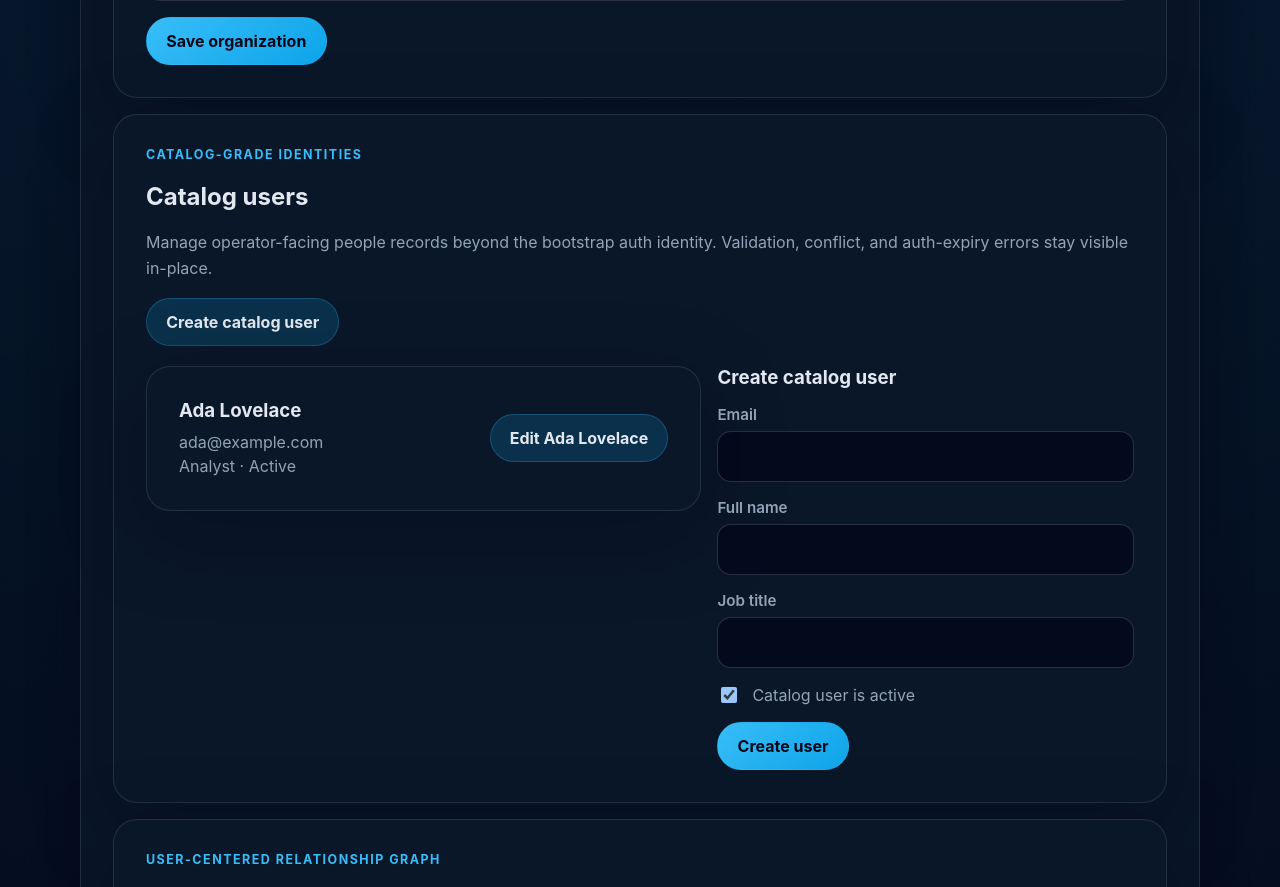
Test: catalog workspace › edits a catalog user through the live workspace form
(page scrolled)
Click the button "Edit Ada Lovelace" at (579, 438), box x1=490 y1=414 x2=668 y2=462
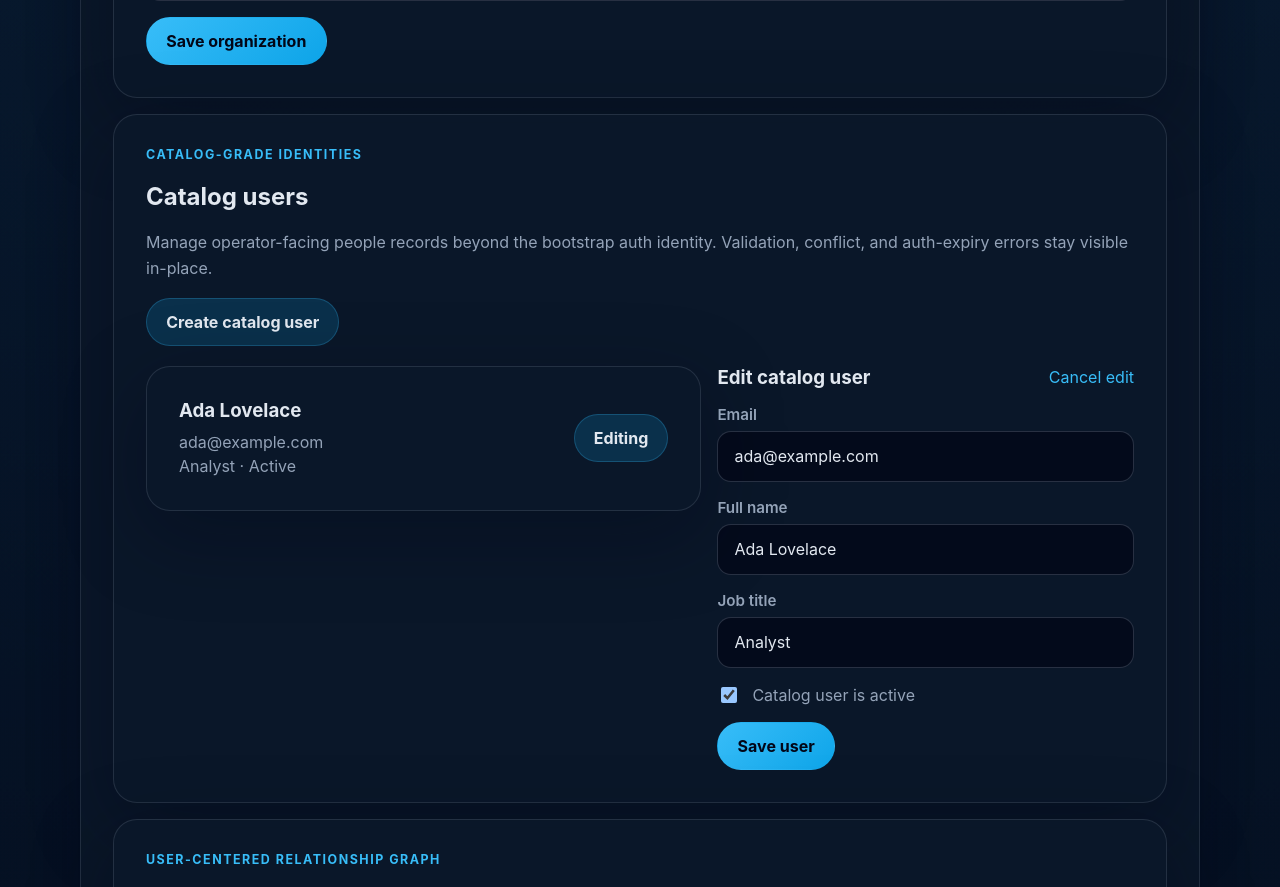
Replace the text in the field labelled "Full name" with "Ada Byron" at (926, 549), box x1=717 y1=524 x2=1134 y2=575
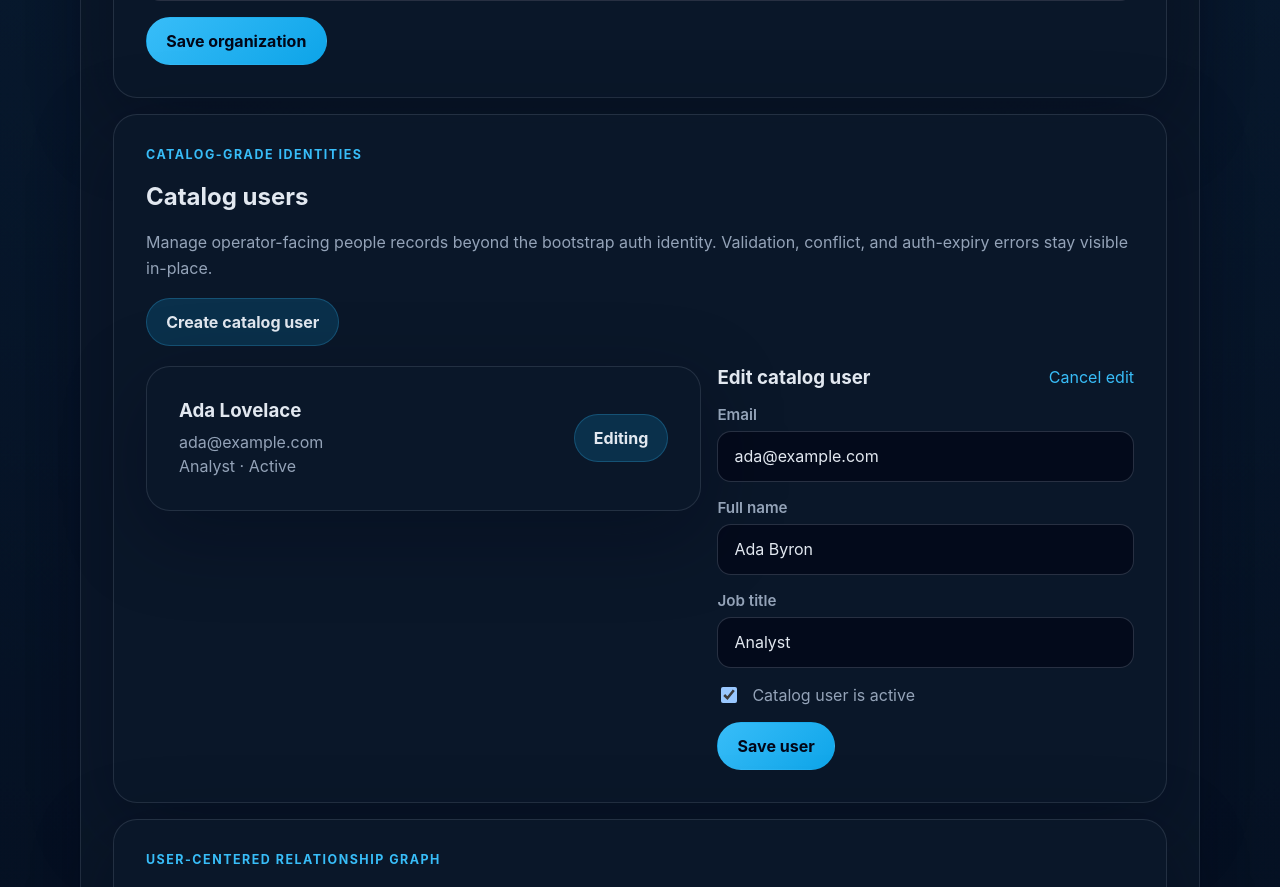
Replace the text in the field labelled "Job title" with "Principal Analyst" at (926, 642), box x1=717 y1=617 x2=1134 y2=668
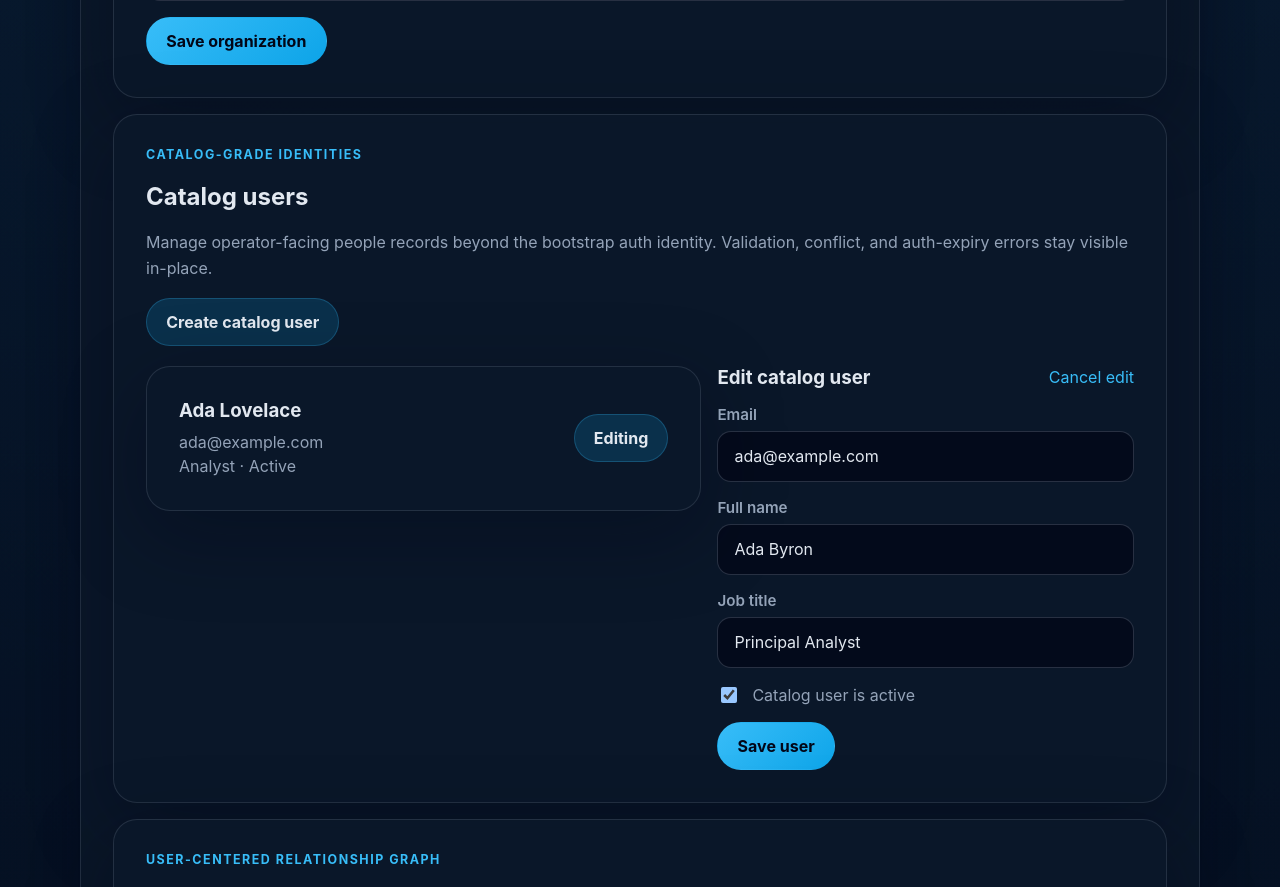
Click the checkbox labelled "Catalog user is active" at (729, 695), box x1=721 y1=687 x2=737 y2=703
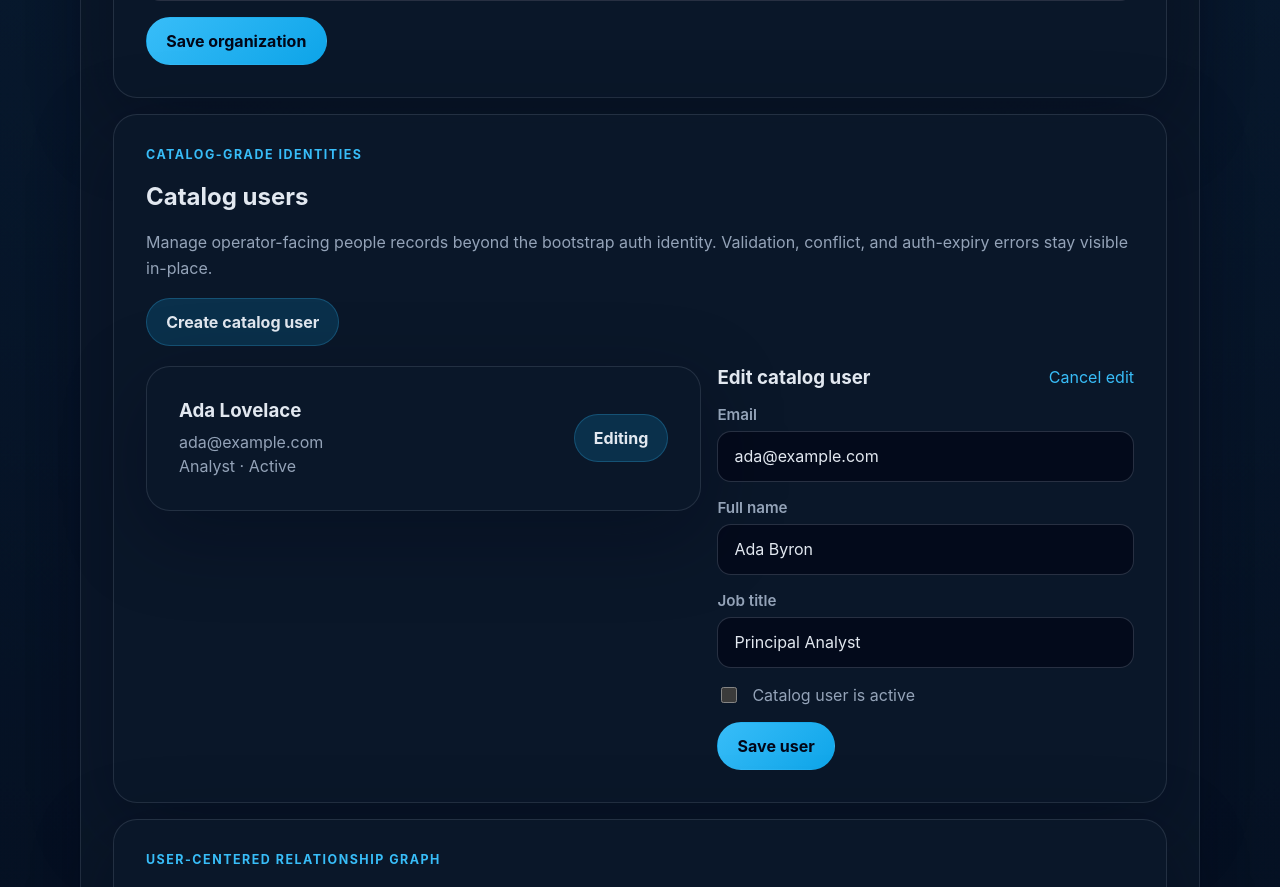
Click the button "Save user" at (776, 746), box x1=717 y1=722 x2=835 y2=770
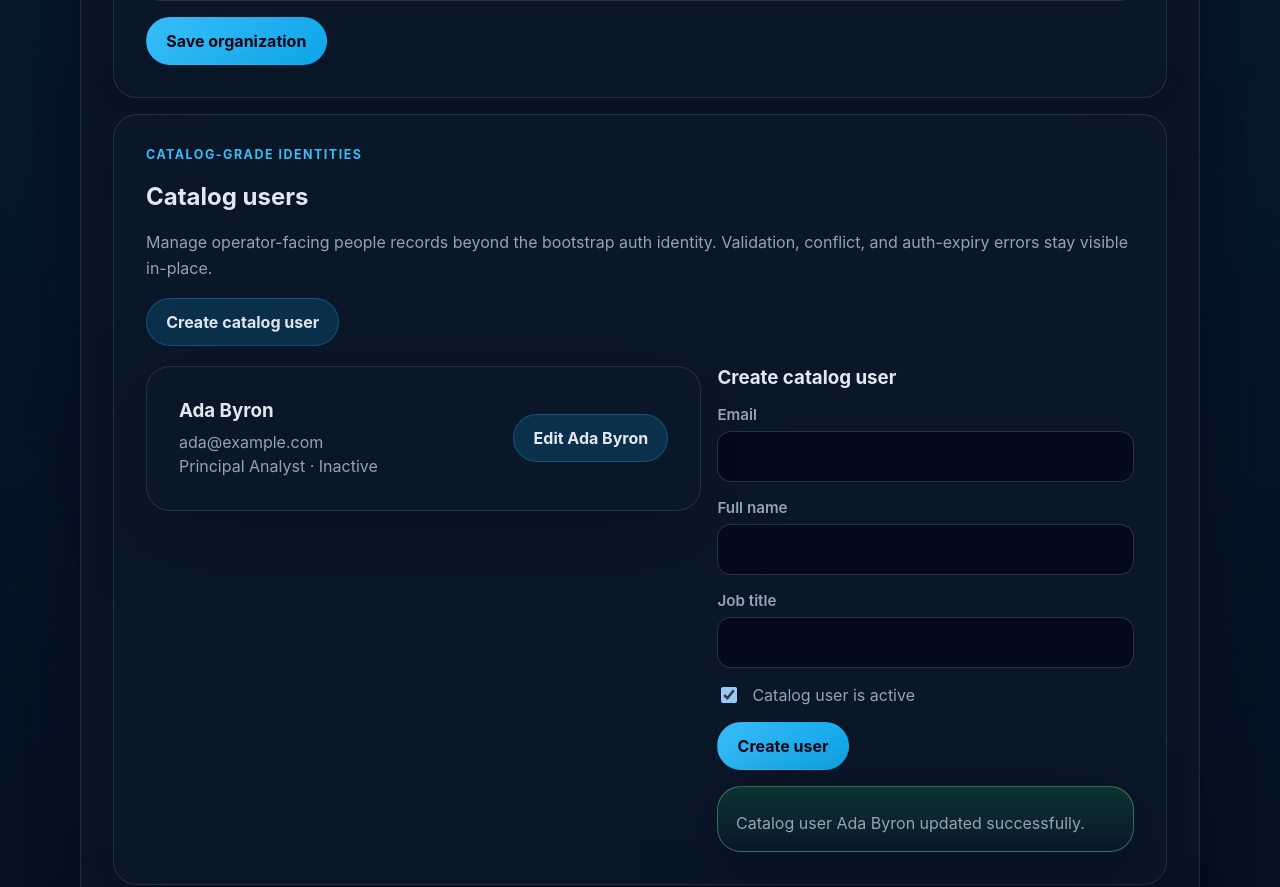
Expected: the text "Catalog user Ada Byron updated successfully." is shown, x1=736 y1=811 x2=1115 y2=835
Expected: the button "Edit Ada Byron" is shown, x1=513 y1=414 x2=668 y2=462
Expected: the list item "Edit Ada Byron" is shown, x1=146 y1=366 x2=701 y2=511
